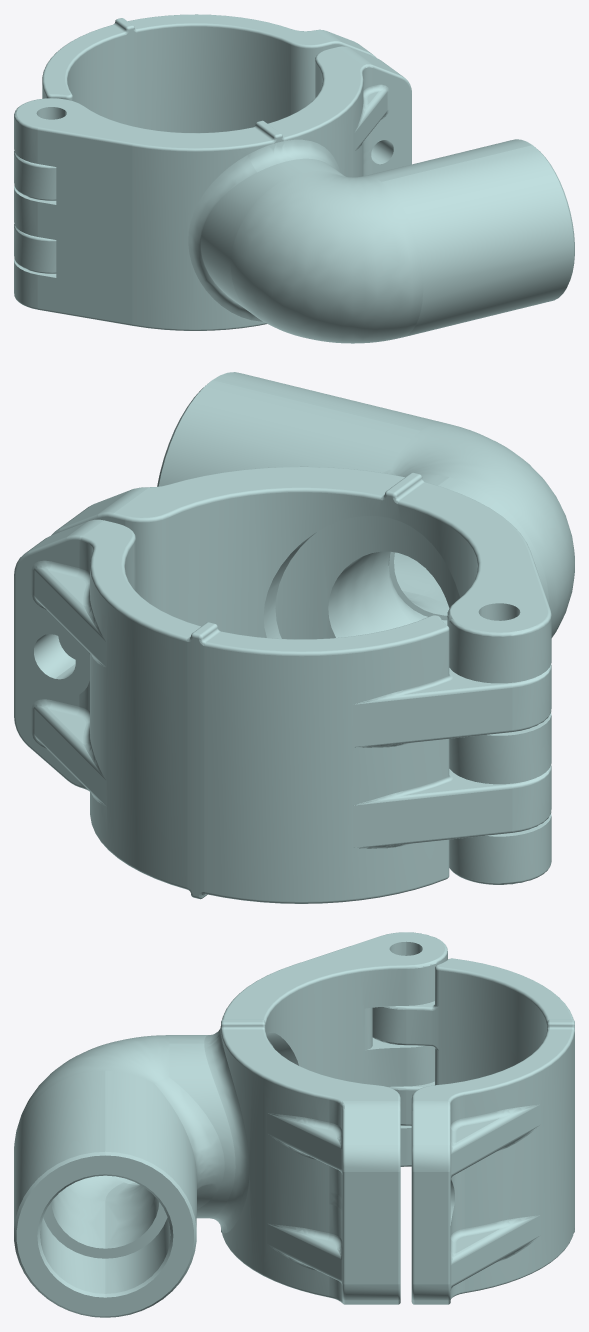
The picture shows the model from 3 angles, top to bottom: view 1: azimuth 30°, elevation 25°; view 2: azimuth 150°, elevation 25°; view 3: azimuth 270°, elevation 25°; orthographic projection. The views are drawn at different scales.
Size of the model in its own units: 87.52 by 42.25 by 102.
